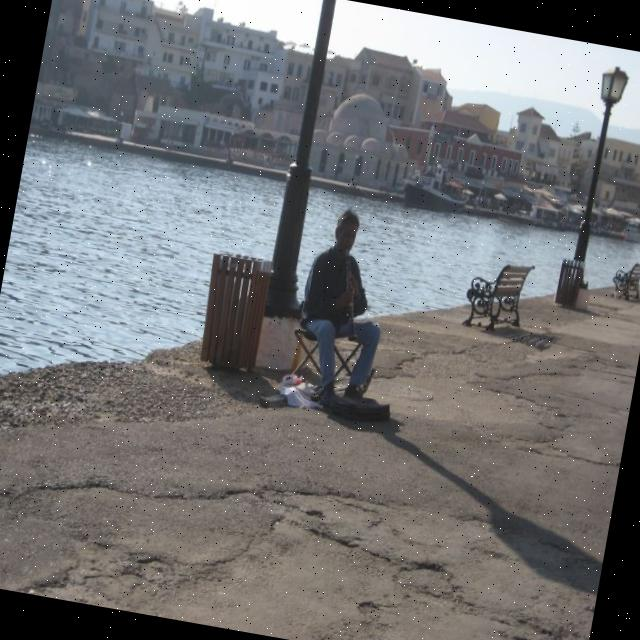clarinet: (327, 239, 376, 344)
